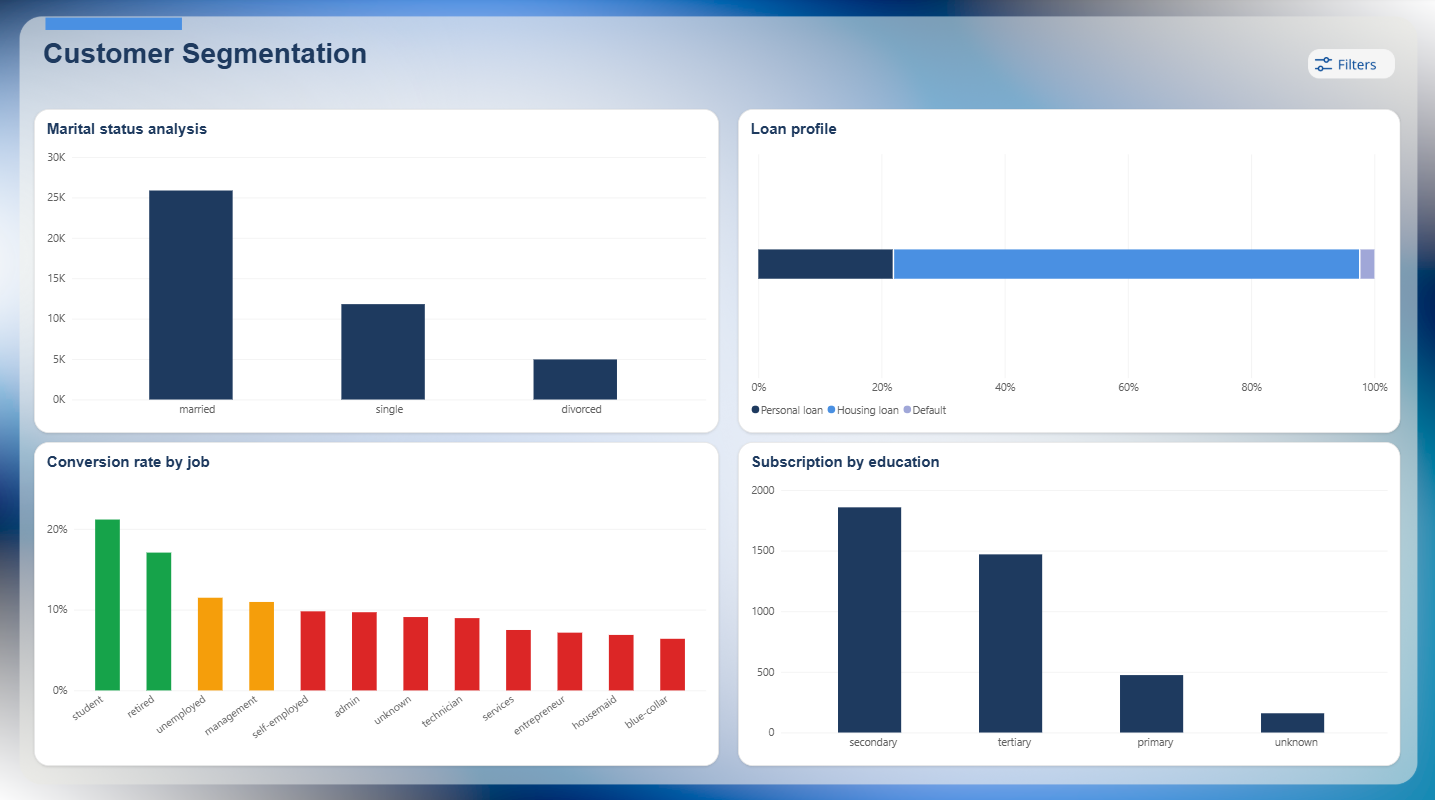

This screenshot's page, from the dashboard's own definition file:
{"tool":"powerbi","page":{"name":"Customer segmentation","canvas":[1920,1080],"ordinal":2},"visuals":[{"type":"shape","box":[1557.1,0,362.9,1080],"z":0,"group":"g1"},{"type":"columnChart","title":"Conversion rate by job","fields":{"Category":["F_bankcustomerdata.job"],"Y":["_measurements.conversion_rate"]},"box":[48.6,591.4,911.4,431.4],"z":0},{"type":"slicer","fields":{"Values":["F_bankcustomerdata.job"]},"box":[1578.5,84.3,330,81.4],"z":1000,"group":"g1"},{"type":"columnChart","title":"Subscription by education","fields":{"Category":["F_bankcustomerdata.education"],"Y":["_measurements.subscribers"]},"box":[985.7,591.4,881.4,431.4],"z":1000},{"type":"columnChart","title":"Marital status analysis","fields":{"Category":["F_bankcustomerdata.marital"],"Y":["CountNonNull(F_bankcustomerdata.marital)"]},"box":[48.6,148.6,911.4,431.4],"z":2000},{"type":"slicer","fields":{"Values":["F_bankcustomerdata.marital"]},"box":[1578.5,170,330,81.4],"z":2000,"group":"g1"},{"type":"hundredPercentStackedBarChart","title":"Loan profile","fields":{"Y":["_measurements.personal_loan_customers","_measurements.housing_loan_customers","_measurements.customers_in_default"]},"box":[985.7,148.6,881.4,431.4],"z":3000},{"type":"slicer","fields":{"Values":["F_bankcustomerdata.education"]},"box":[1578.5,251.4,330,80],"z":3000,"group":"g1"},{"type":"textbox","box":[61.4,52.9,761.4,95.7],"z":4000},{"type":"shape","box":[1600,957.1,138.6,45.7],"z":4000,"group":"g1"},{"type":"shape","box":[1770,957.1,138.6,45.7],"z":5000,"group":"g1"},{"type":"group","id":"g1","title":"Group 1","box":[1557.1,0,362.9,1080],"z":6000}]}

Visuals, with their boxes in screenshot pixels (x1, y1, x2, y2), scaled from the page's 1920x1080 canvas onto the 1435x800 screenshot:
shape: {"x1": 1164, "y1": 0, "x2": 1434, "y2": 799}
"Conversion rate by job" columnChart: {"x1": 36, "y1": 438, "x2": 718, "y2": 758}
slicer - F_bankcustomerdata.job: {"x1": 1180, "y1": 62, "x2": 1426, "y2": 123}
"Subscription by education" columnChart: {"x1": 737, "y1": 438, "x2": 1395, "y2": 758}
"Marital status analysis" columnChart: {"x1": 36, "y1": 110, "x2": 718, "y2": 430}
slicer - F_bankcustomerdata.marital: {"x1": 1180, "y1": 126, "x2": 1426, "y2": 186}
"Loan profile" hundredPercentStackedBarChart: {"x1": 737, "y1": 110, "x2": 1395, "y2": 430}
slicer - F_bankcustomerdata.education: {"x1": 1180, "y1": 186, "x2": 1426, "y2": 245}
textbox: {"x1": 46, "y1": 39, "x2": 615, "y2": 110}
shape: {"x1": 1196, "y1": 709, "x2": 1299, "y2": 743}
shape: {"x1": 1323, "y1": 709, "x2": 1426, "y2": 743}
"Group 1" group: {"x1": 1164, "y1": 0, "x2": 1434, "y2": 799}
